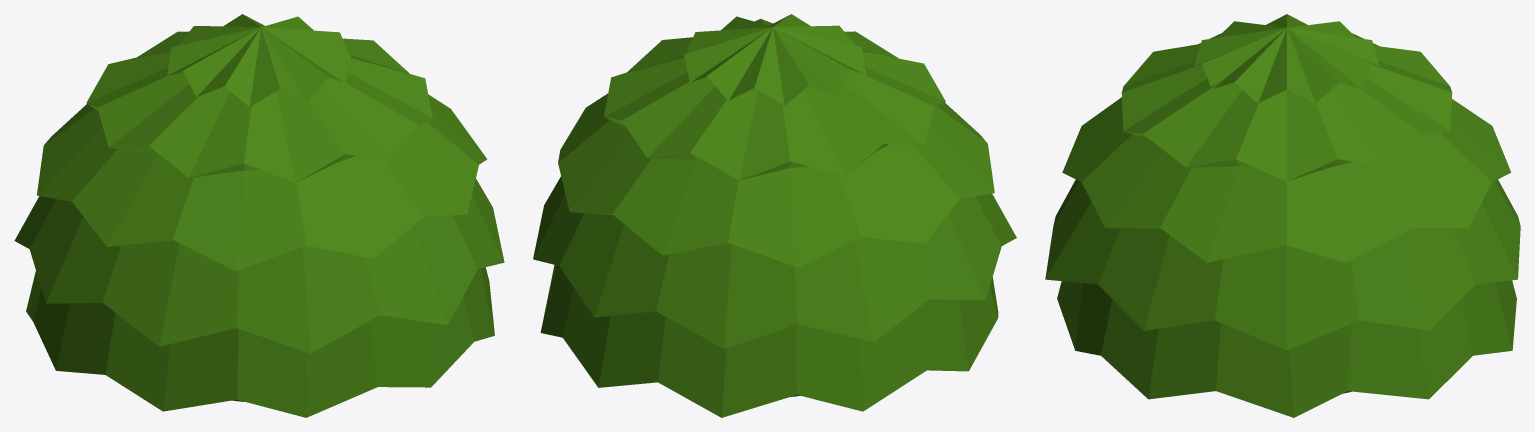
Rendered from Cali.fbx.
3 renders of one model, left to right at view 1: azimuth 30°, elevation 25°; view 2: azimuth 150°, elevation 25°; view 3: azimuth 270°, elevation 25°, orthographic.
Parts seen in each view (by area): view 1: Bush.019; view 2: Bush.019; view 3: Bush.019.
Boxes of the visible parts, bbox=[...] form: Bush.019: bbox=[14, 14, 504, 417]; Bush.019: bbox=[533, 14, 1016, 417]; Bush.019: bbox=[1045, 14, 1520, 417].
Bounding box in the file's own units: 179 × 124 × 175.
